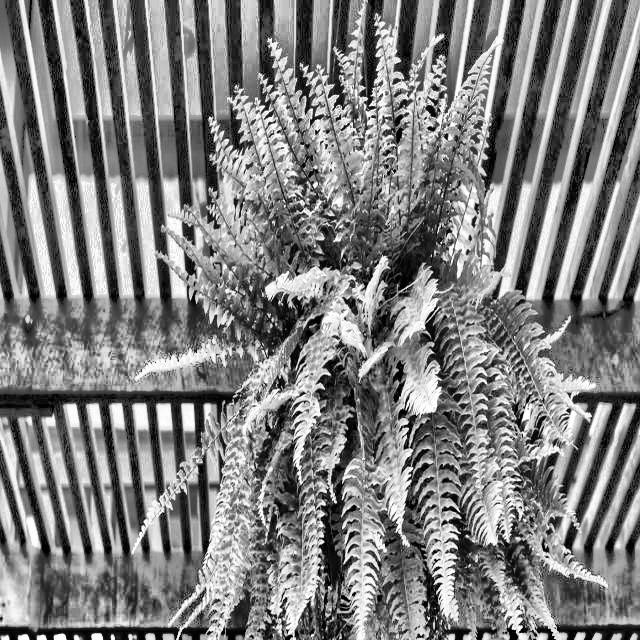plants: (220, 88, 534, 574)
